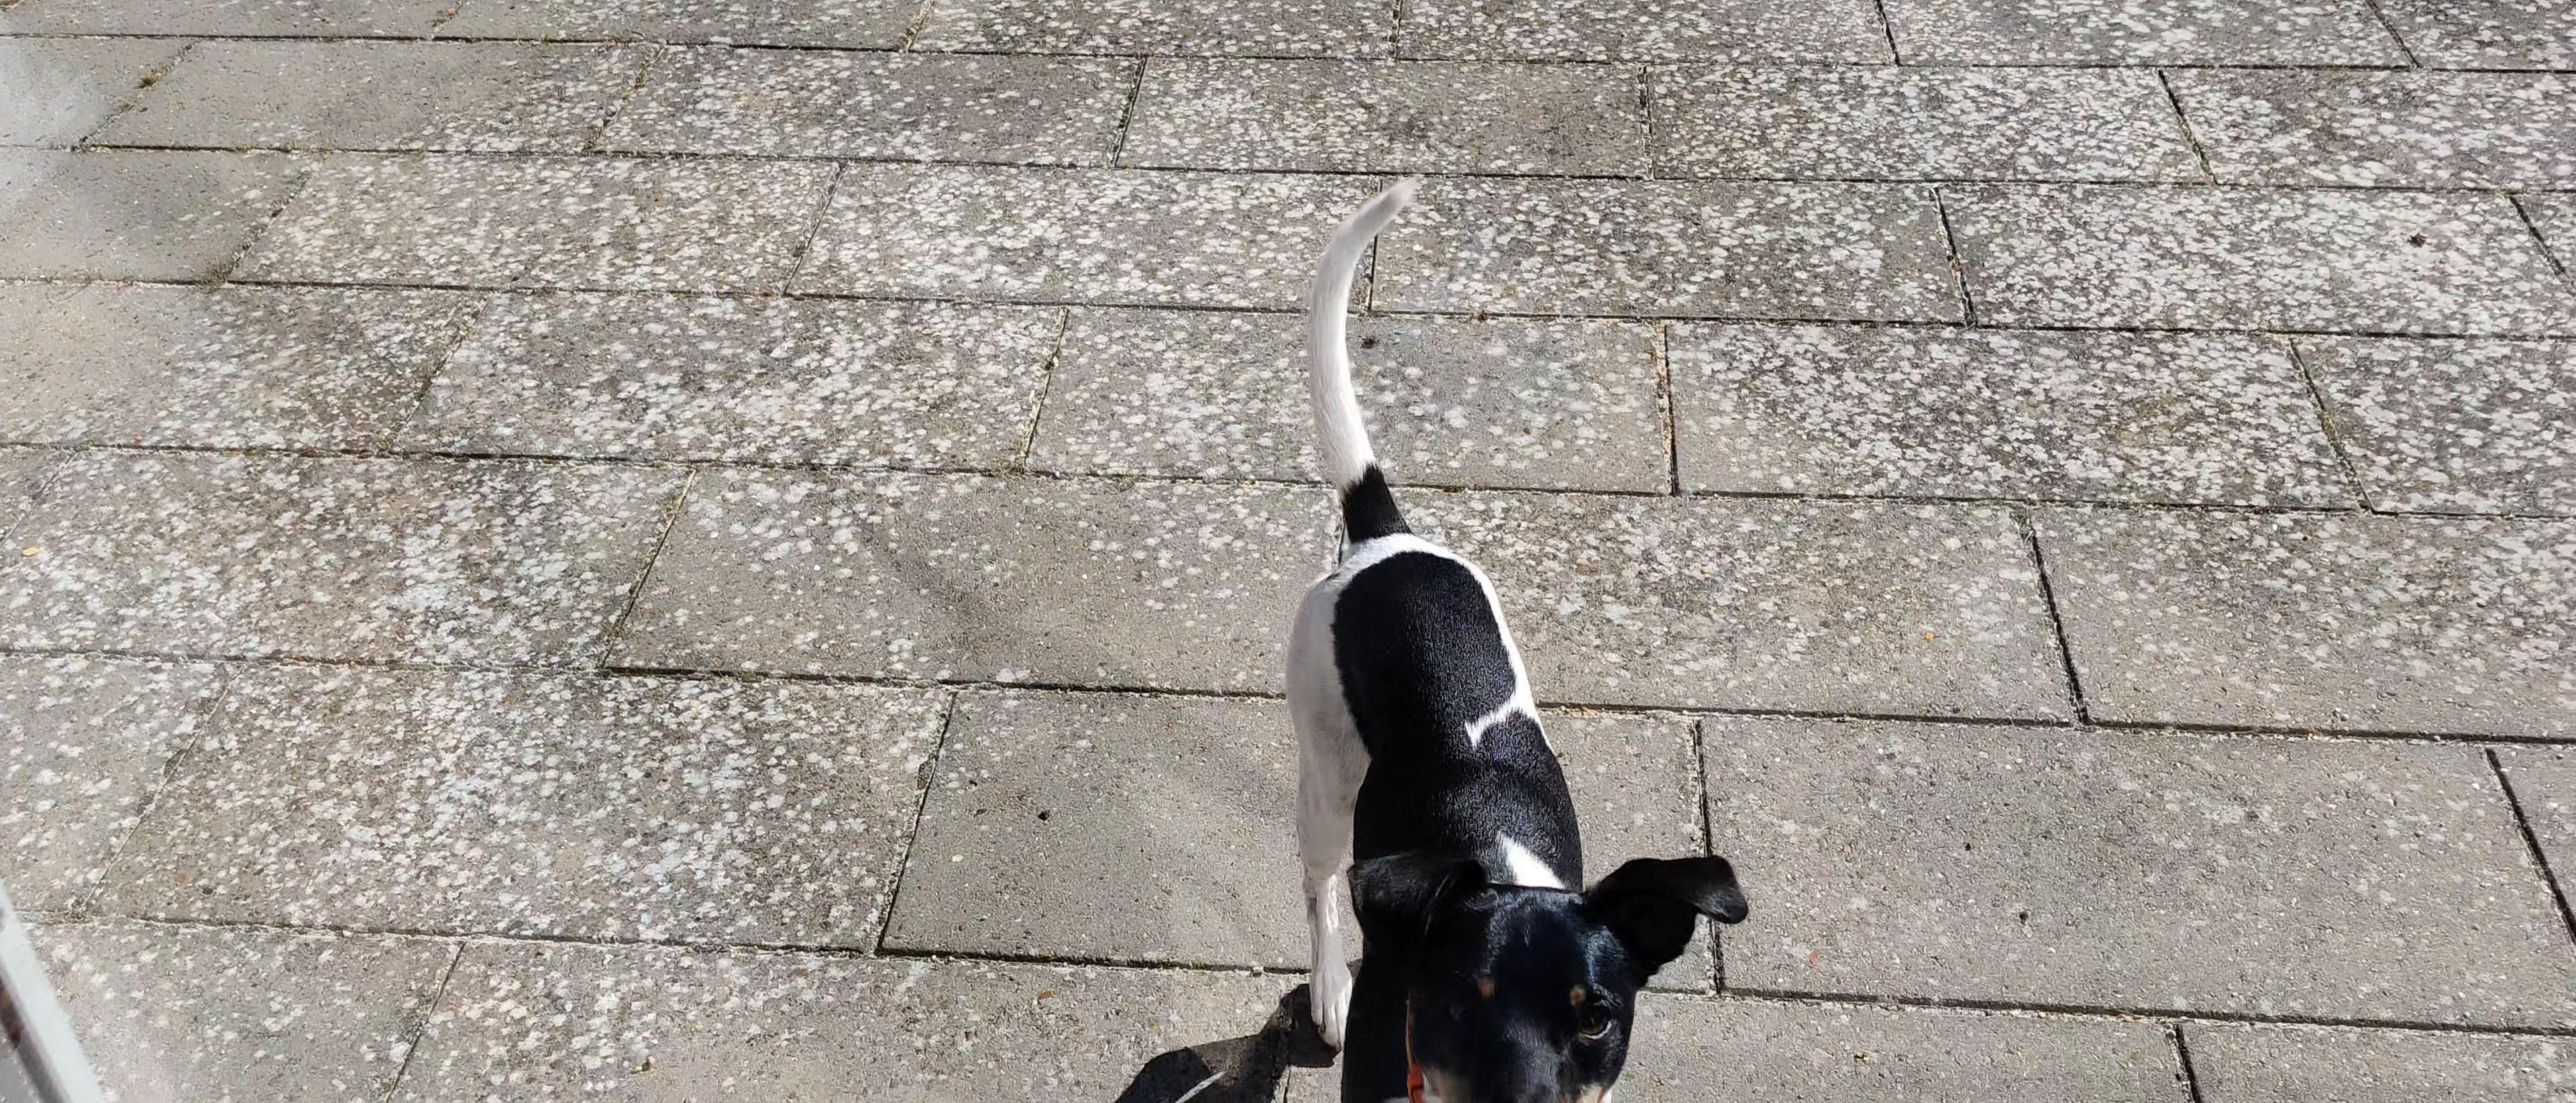Dog: (1242, 155, 1756, 1103)
